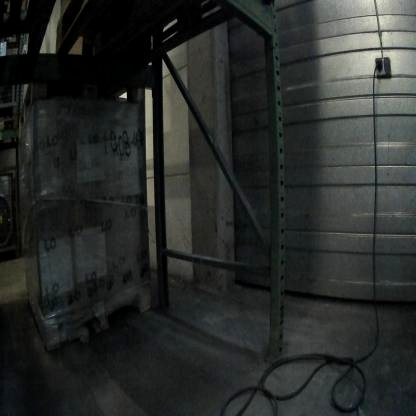pallets: (36, 267, 162, 360)
